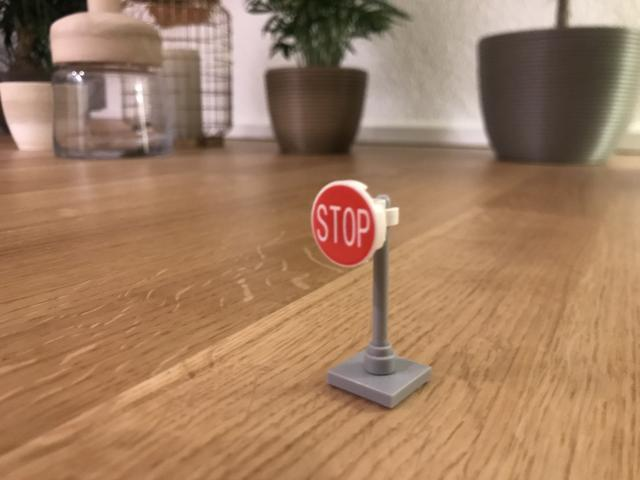stop: (311, 183, 379, 266)
